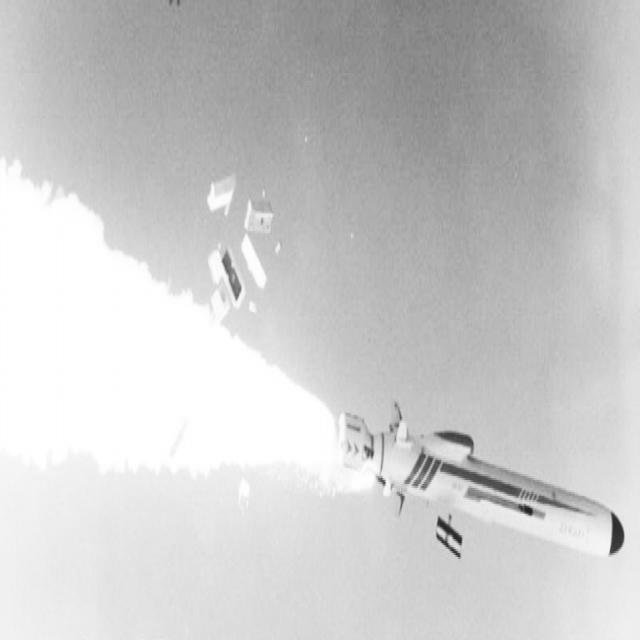Missile: (328, 415, 625, 573)
